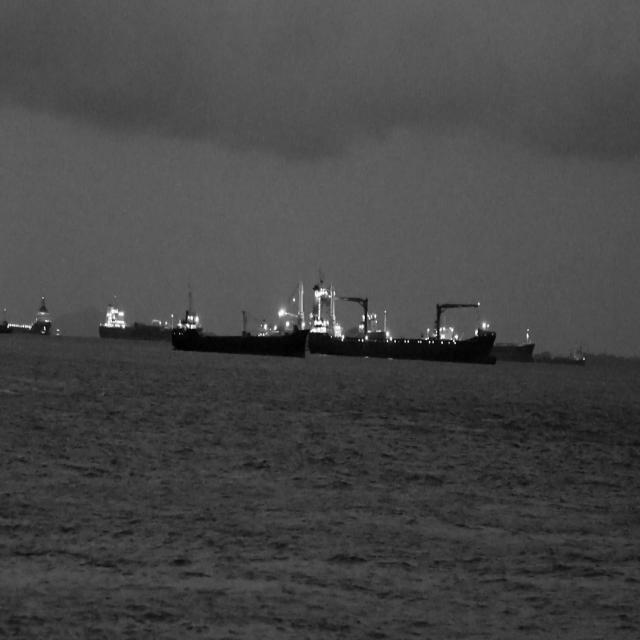ship: (307, 280, 496, 364), (170, 279, 307, 355), (97, 300, 170, 340), (1, 292, 51, 336), (492, 325, 534, 364), (534, 338, 587, 366), (40, 326, 51, 338)
